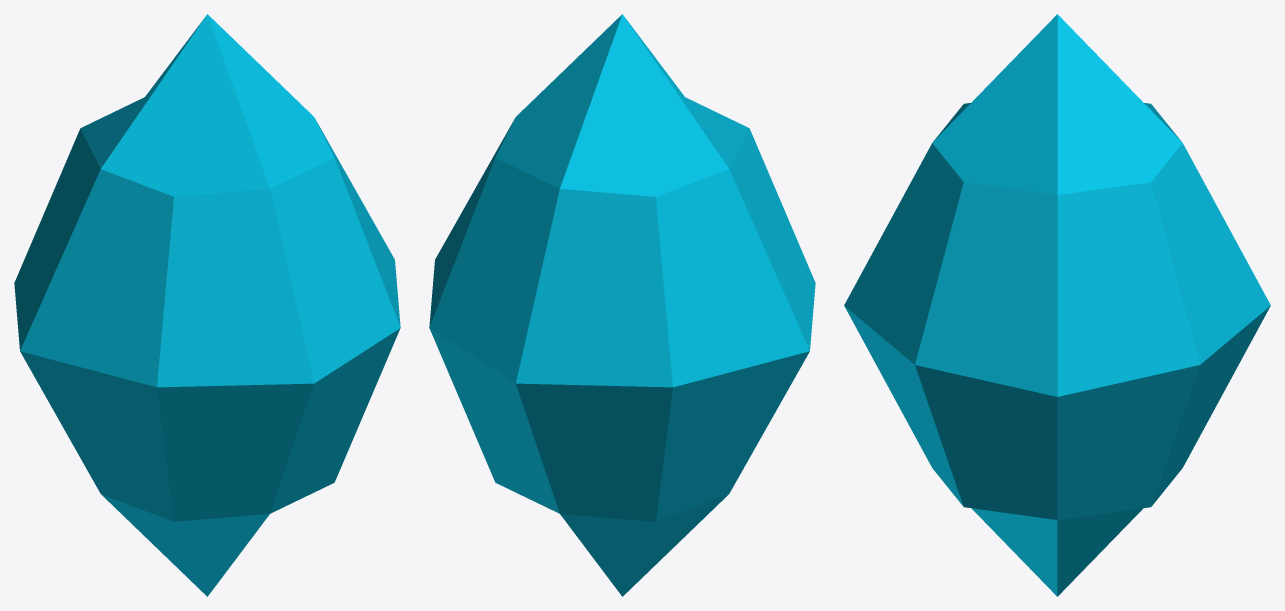
The model's file is Crystal.fbx.
3 renders of one model, left to right at view 1: azimuth 30°, elevation 25°; view 2: azimuth 150°, elevation 25°; view 3: azimuth 270°, elevation 25°, orthographic.
Parts seen in each view (by area): view 1: Куб; view 2: Куб; view 3: Куб.
Boxes of the visible parts, bbox=[...] form: Куб: bbox=[14, 14, 400, 596]; Куб: bbox=[429, 14, 815, 596]; Куб: bbox=[844, 14, 1270, 596].
Size of the model in its own units: 241 by 359 by 238.
